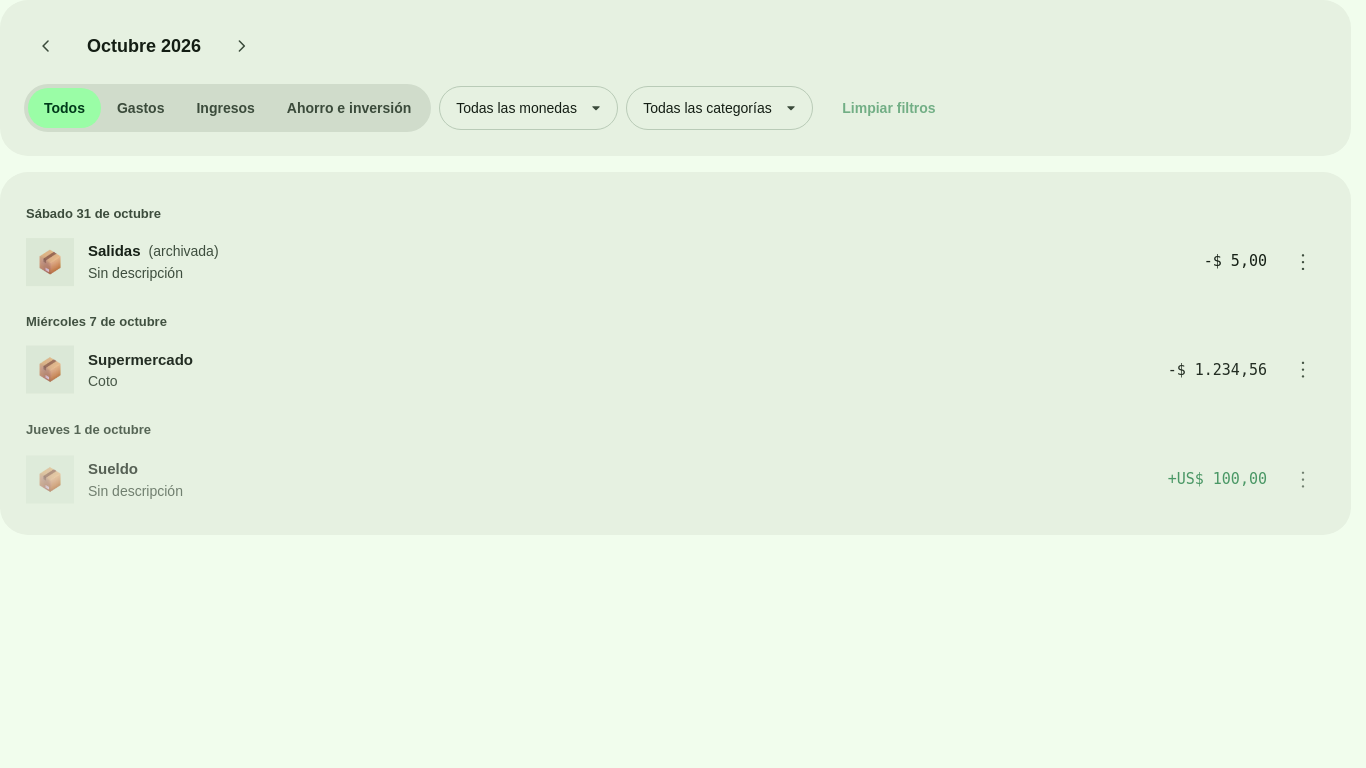
MovementsPage › delete › asks for confirmation showing what will be deleted, and deletes it
The image size is (1366, 768).
Click the button named "Acciones del movimiento de Supermercado del 07/10/2026".
click(1303, 370)  # box top-left (1281, 348), bottom-right (1325, 392)
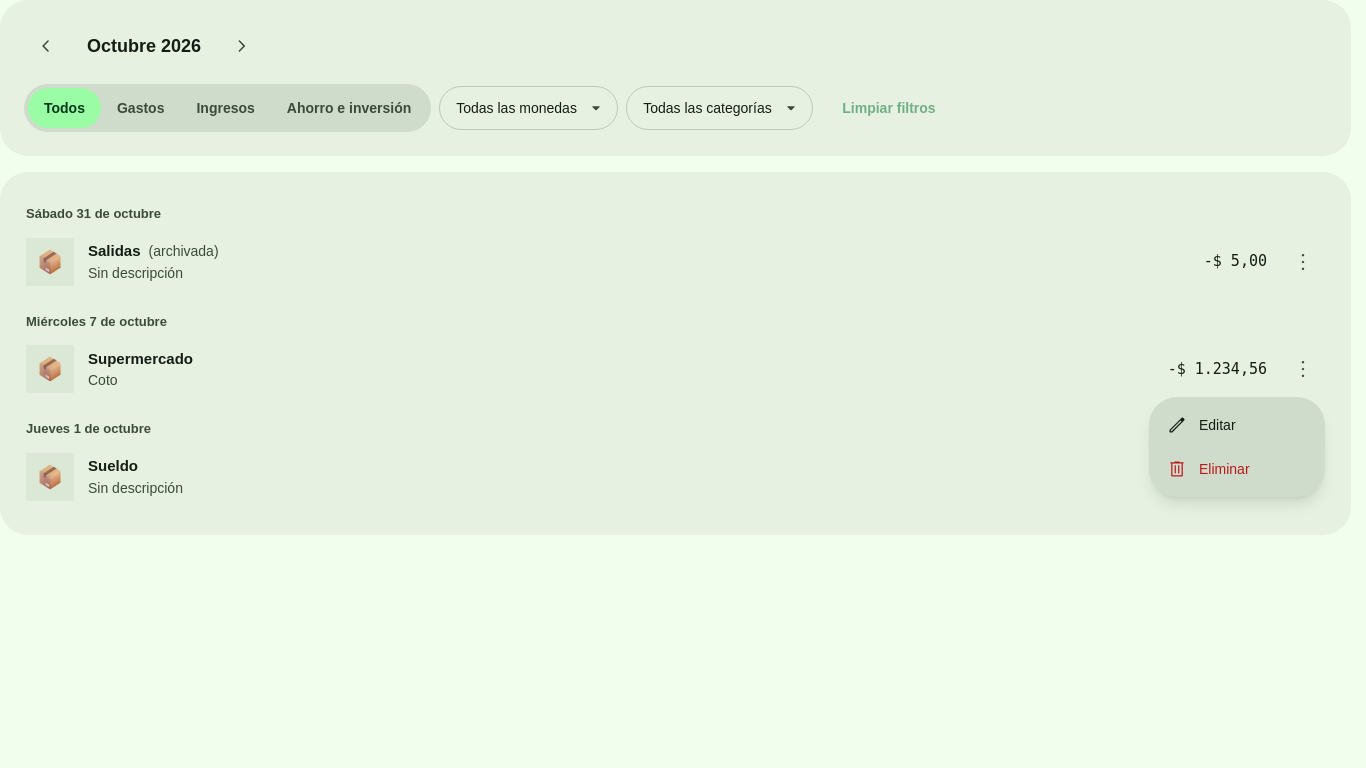
Click the menu item "Eliminar".
click(1208, 469)  # box top-left (1167, 459), bottom-right (1250, 479)
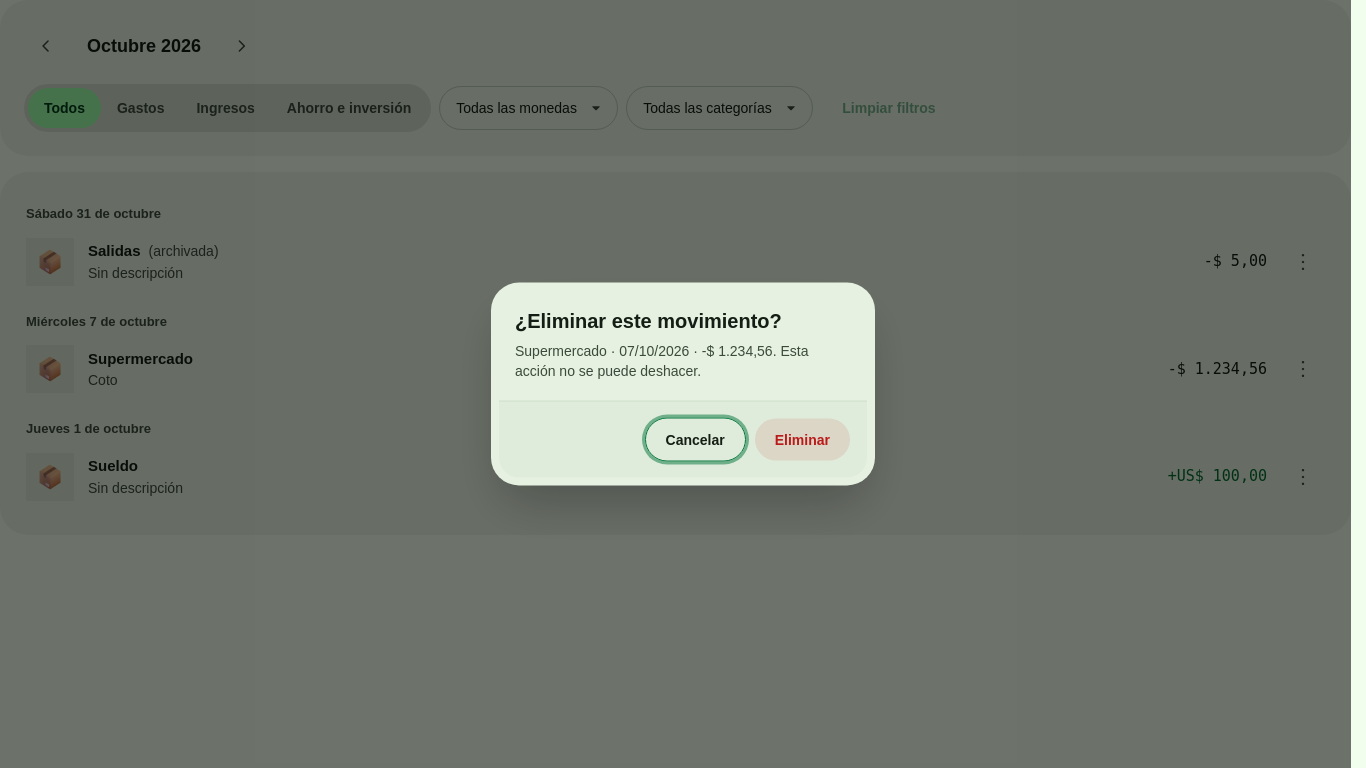
Expected: the dialog "¿Eliminar este movimiento?" shows "Supermercado · 07/10/2026 · -$ 1.234,56", top-left (491, 282), bottom-right (875, 486)
Click the button "Eliminar".
click(802, 440)  # box top-left (754, 418), bottom-right (851, 462)
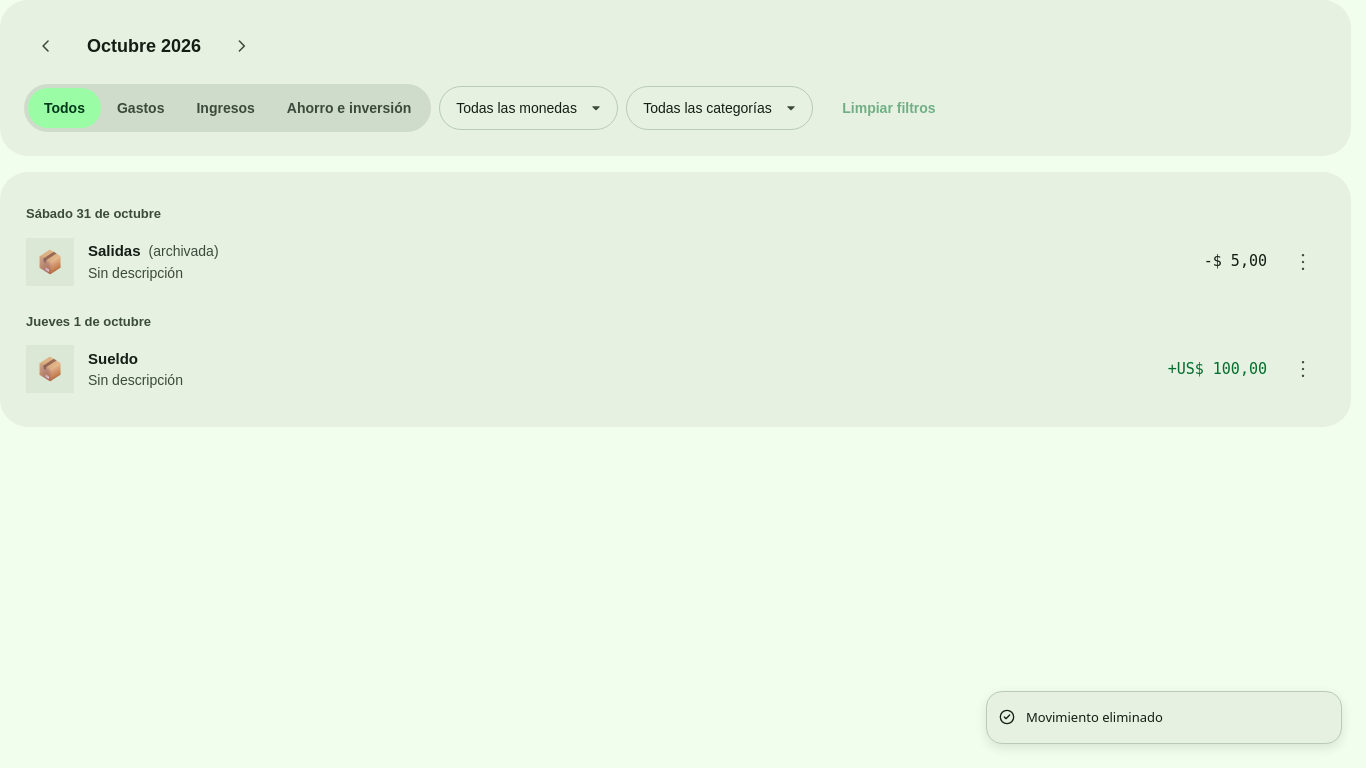
Expected: the text "Movimiento eliminado" is shown, top-left (1026, 708), bottom-right (1163, 727)
